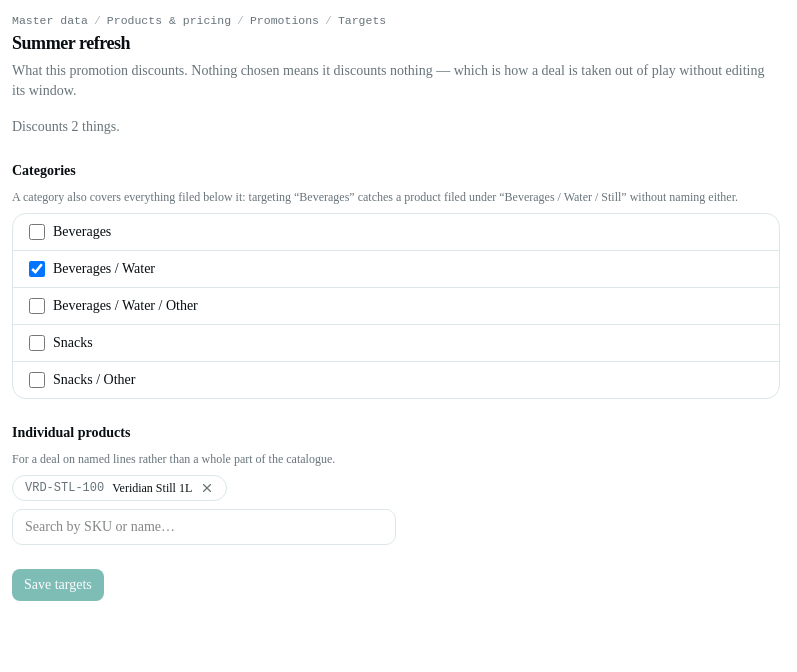
<PromotionTargets> › cannot add the same product twice
Expected: the button "Save targets" is shown, [12,569,104,601]
Type "still" into the search field named "Search products". click: x=204, y=527
box: [12,509,396,545]
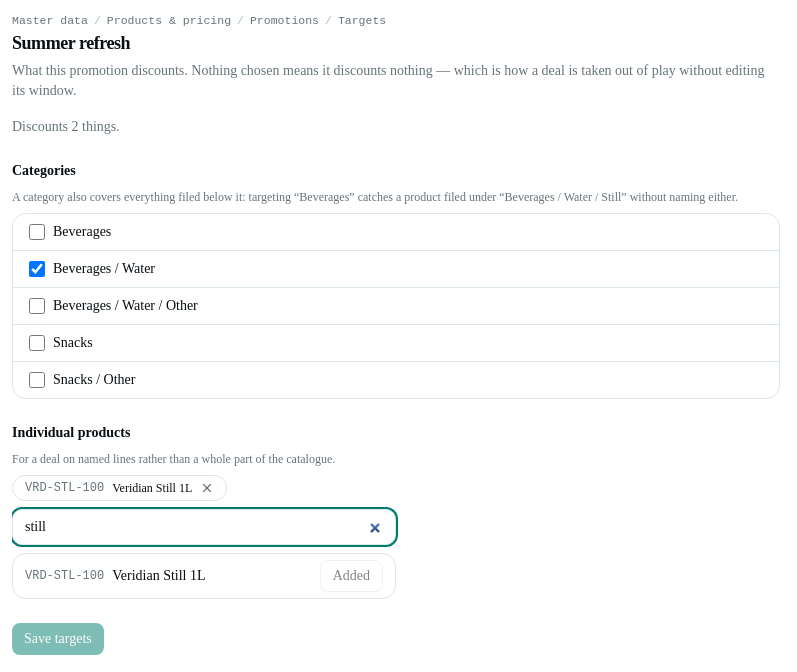
Expected: the button with aria-label "Add Veridian Still 1L (VRD-STL-100)" is disabled, [320,560,383,592]
